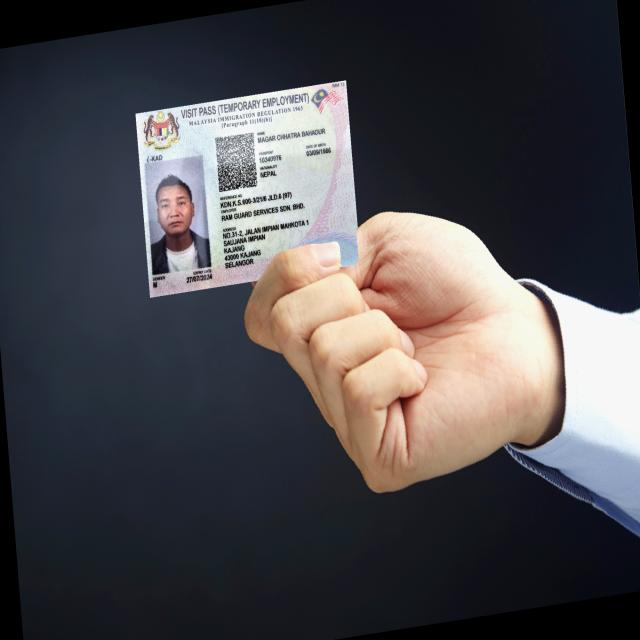ikad-temp: (134, 79, 359, 298)
